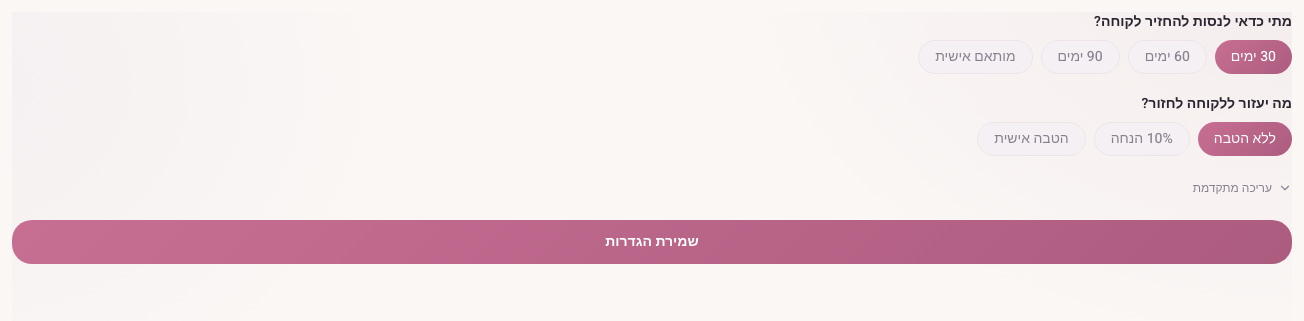
Test: WinBackSettingsForm — thresholds & offers › surfaces the action error when saving fails
What coordinates should you click on to do the following:
click the button "שמירת הגדרות"
I would click on:
 (652, 242)
Its box is [12,220,1292,264].
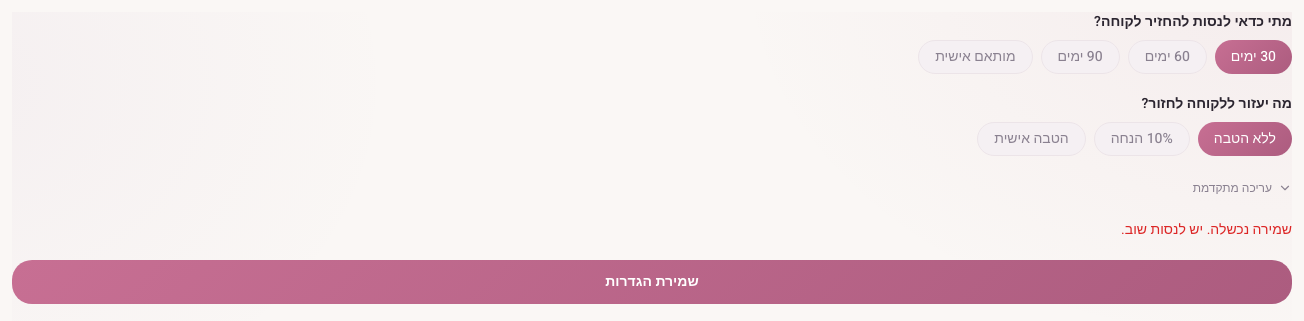
expect the text "שמירה נכשלה. יש לנסות שוב." is shown: met, box [1121,219,1292,240]
